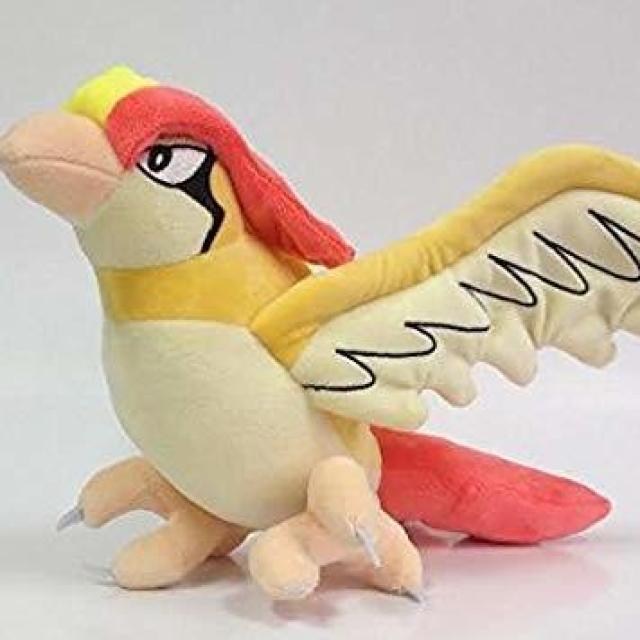Pidgeot: (3, 69, 615, 588)
